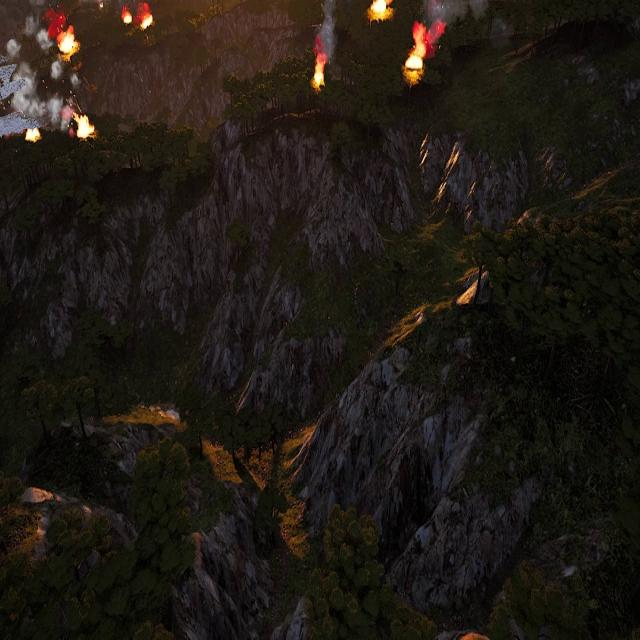fire: (404, 21, 442, 75), (369, 0, 392, 19), (75, 116, 94, 139), (313, 58, 326, 89), (60, 30, 76, 54), (22, 126, 42, 142), (140, 15, 154, 29), (123, 11, 132, 26)
smoke: (0, 0, 68, 130), (416, 0, 485, 52), (313, 1, 339, 61)
